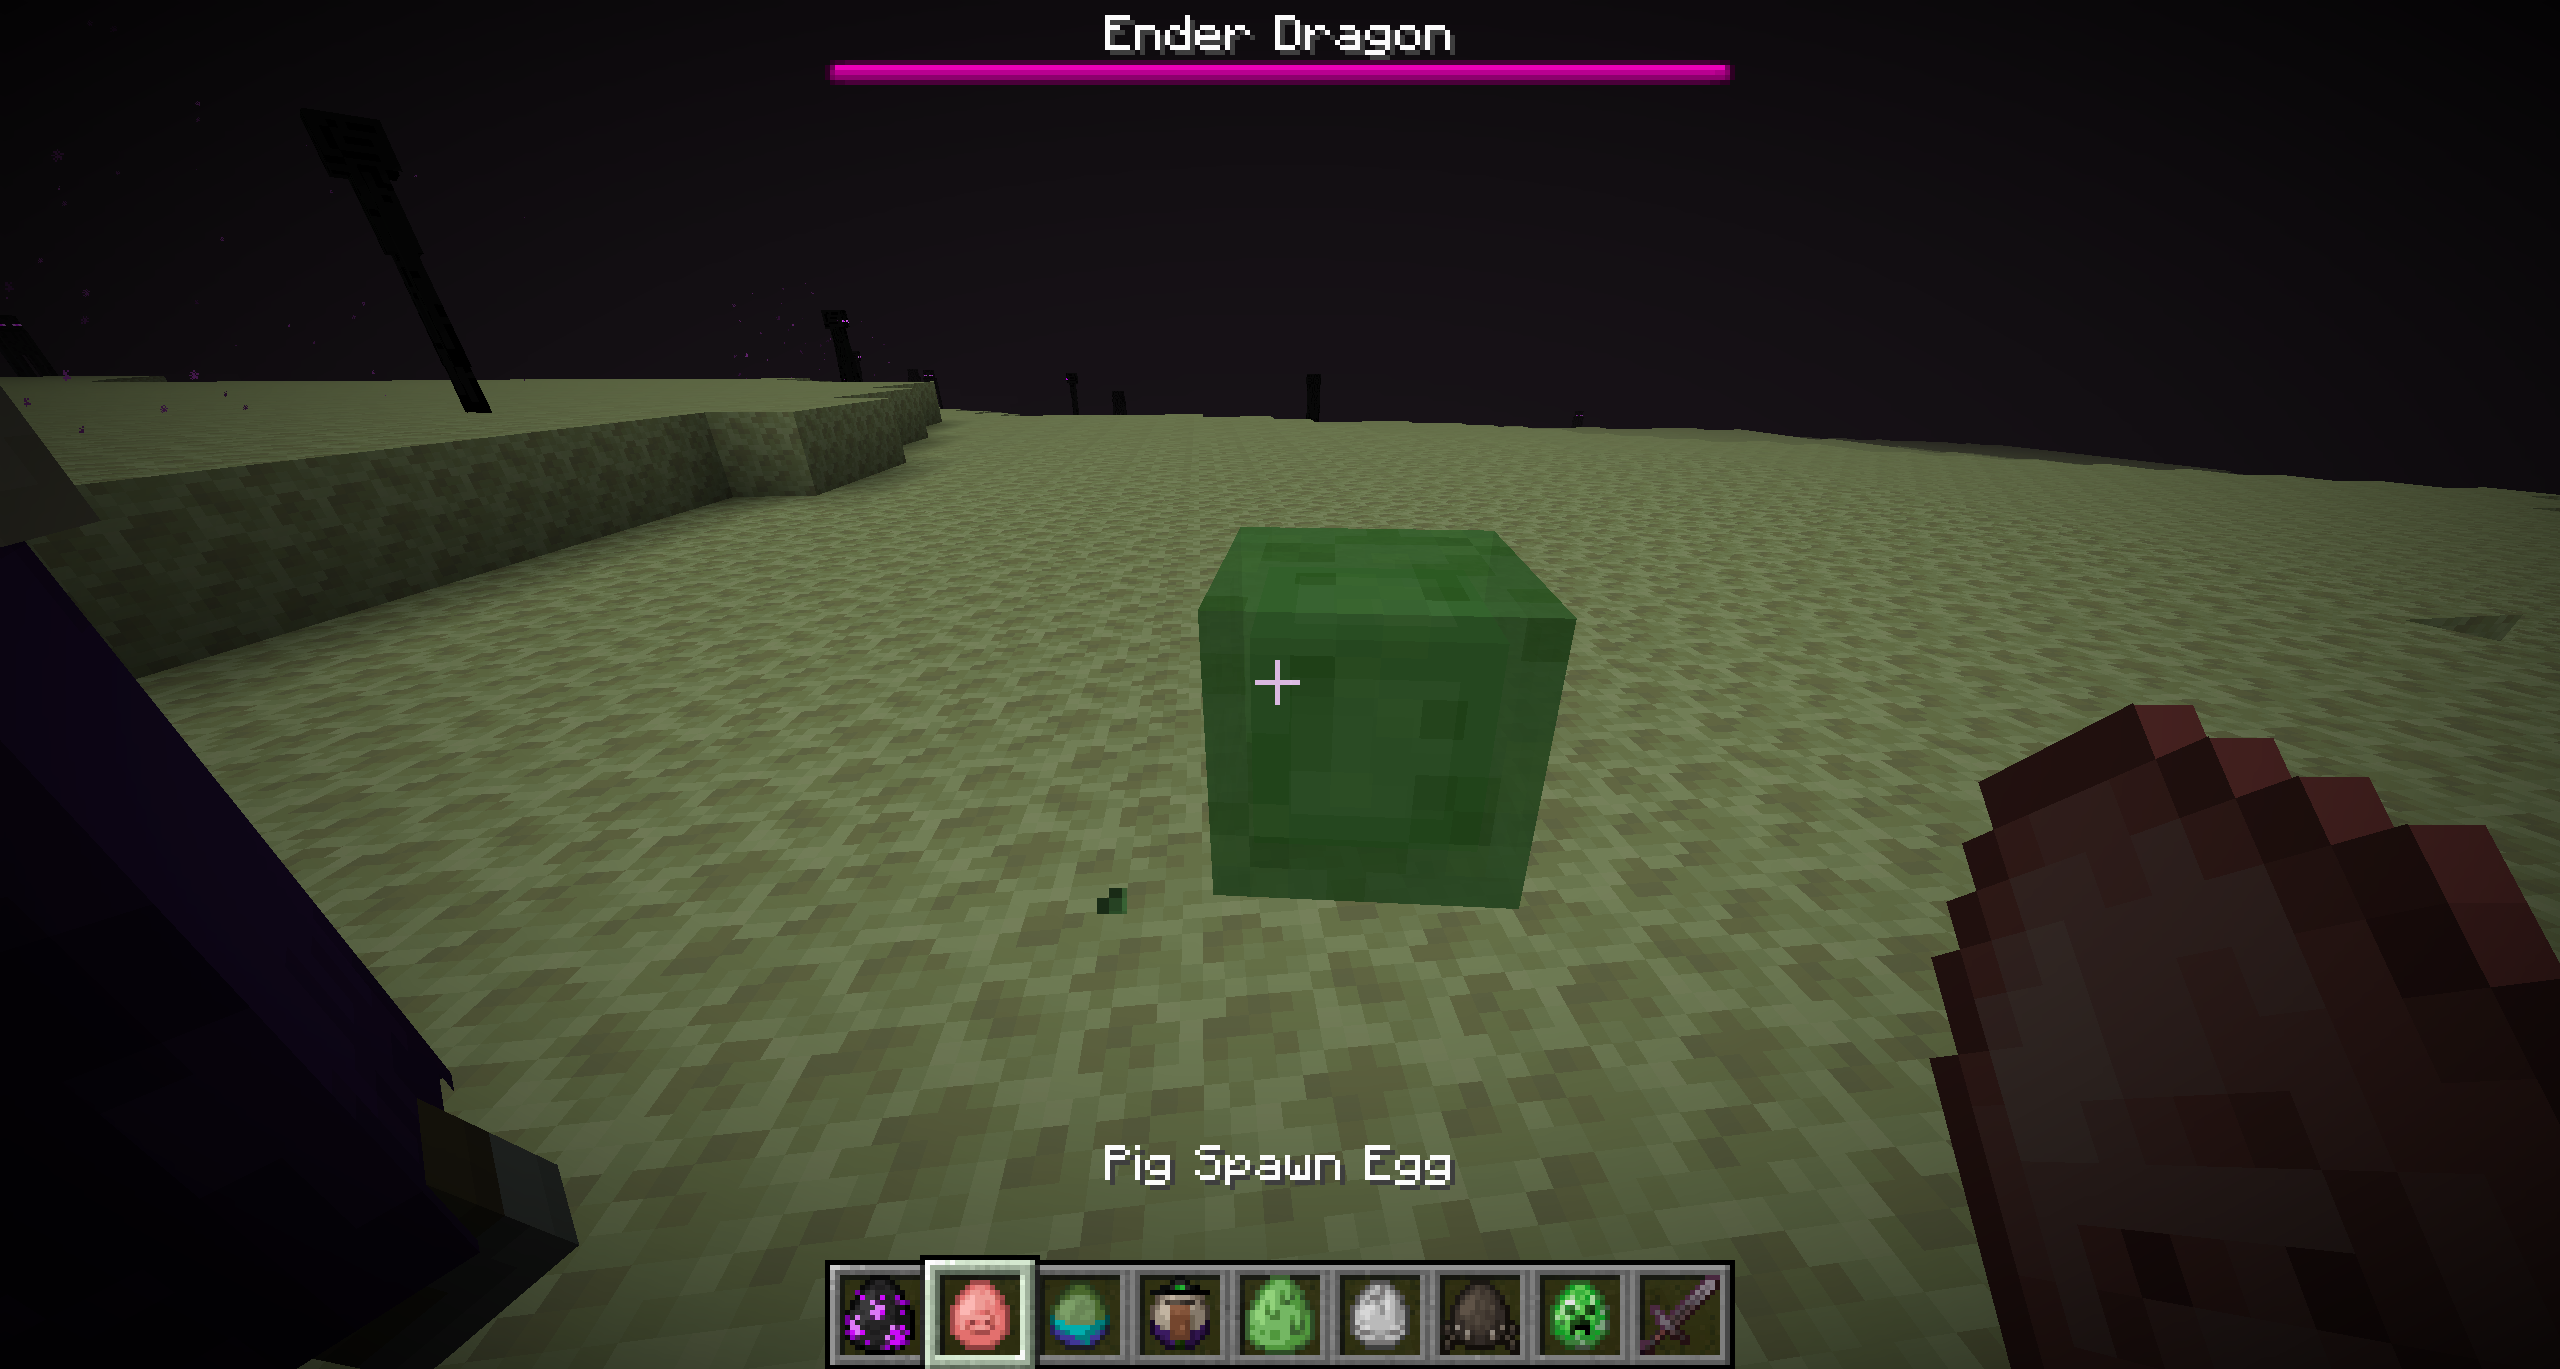endermens: (306, 112, 498, 426)
slimes: (1194, 508, 1556, 915)
